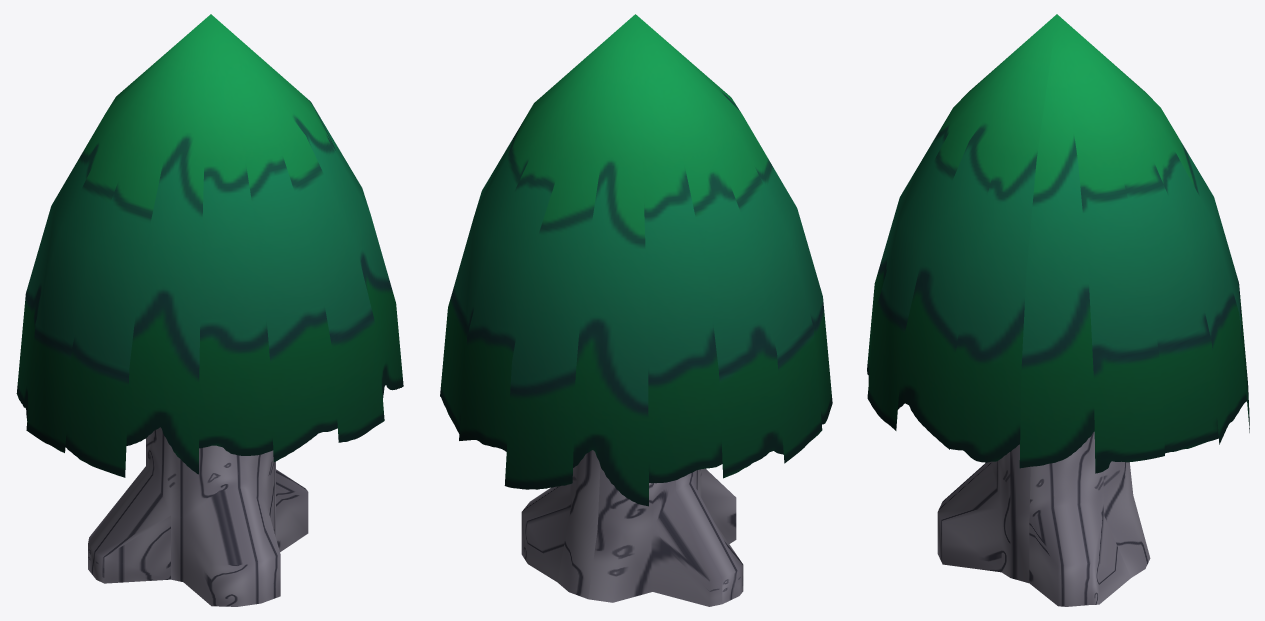
File: Arvore.fbx
The picture shows the model from 3 angles, left to right: view 1: azimuth 30°, elevation 25°; view 2: azimuth 150°, elevation 25°; view 3: azimuth 270°, elevation 25°; orthographic projection.
Parts seen in each view (by area): view 1: Cylinder; view 2: Cylinder; view 3: Cylinder.
Part boxes in pixels (x1,y1,x2,y2): Cylinder: (16,14,403,606); Cylinder: (440,14,832,606); Cylinder: (867,14,1249,606).
Size of the model in its own units: 120 by 120 by 187.
